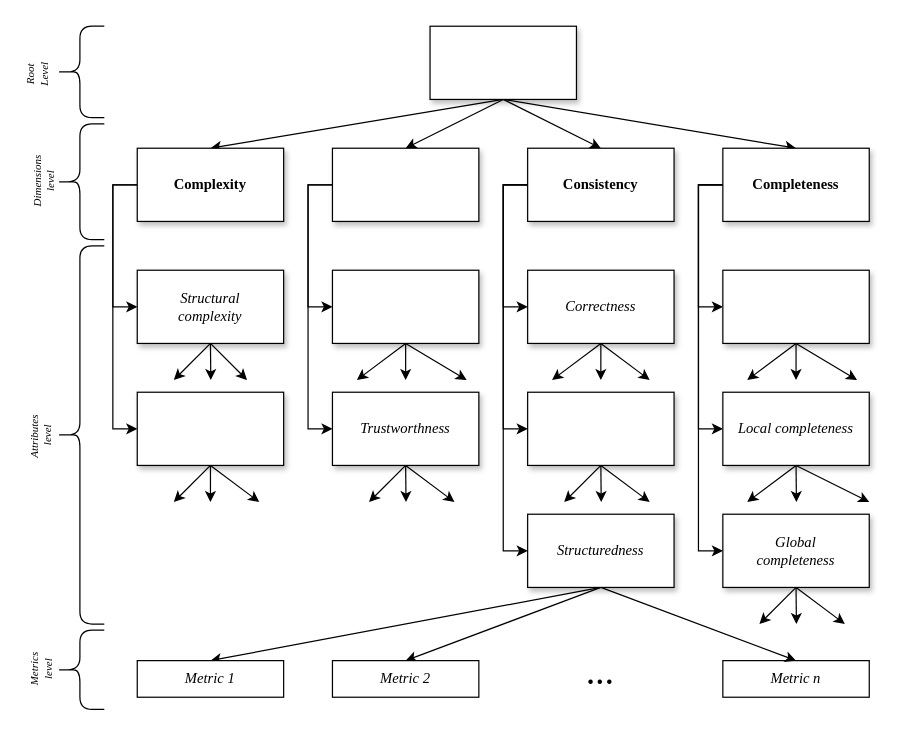
This 900x731 diagram has some shape labels left out. The shapes that lost their labels are listed below. From the top down, each one's centre as x and y in pixels, then its label:
the point at 504,64: Event Log Quality Model
the point at 406,186: Accuracy
the point at 406,308: Precision
the point at 797,308: Availability
the point at 211,430: Behavioural complexity
the point at 601,430: Integrity
